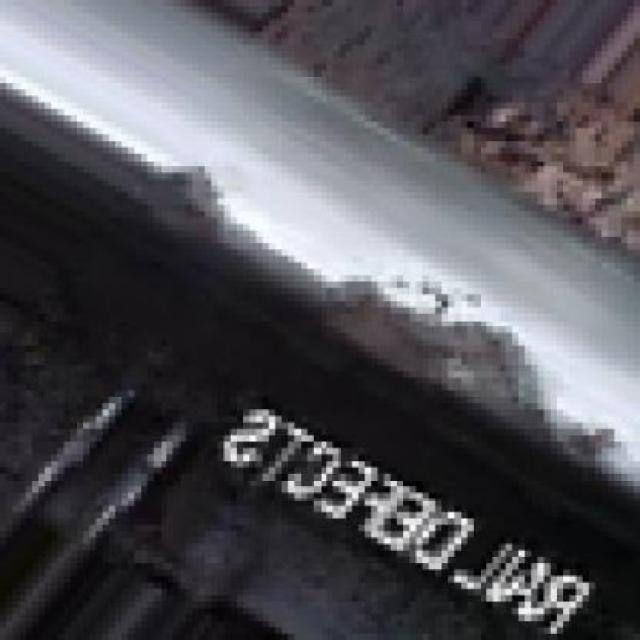defective: (112, 125, 640, 522)
